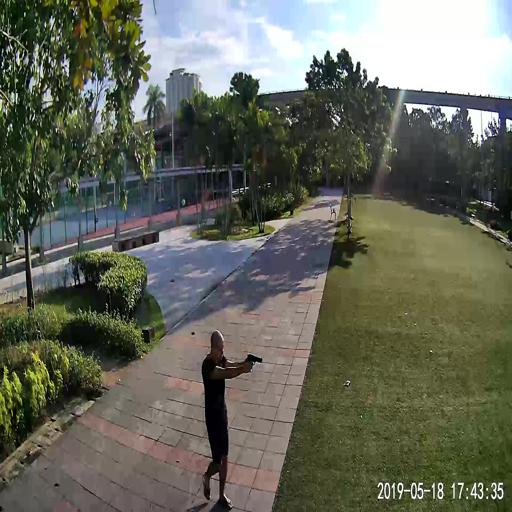pistol: (244, 349, 263, 369)
